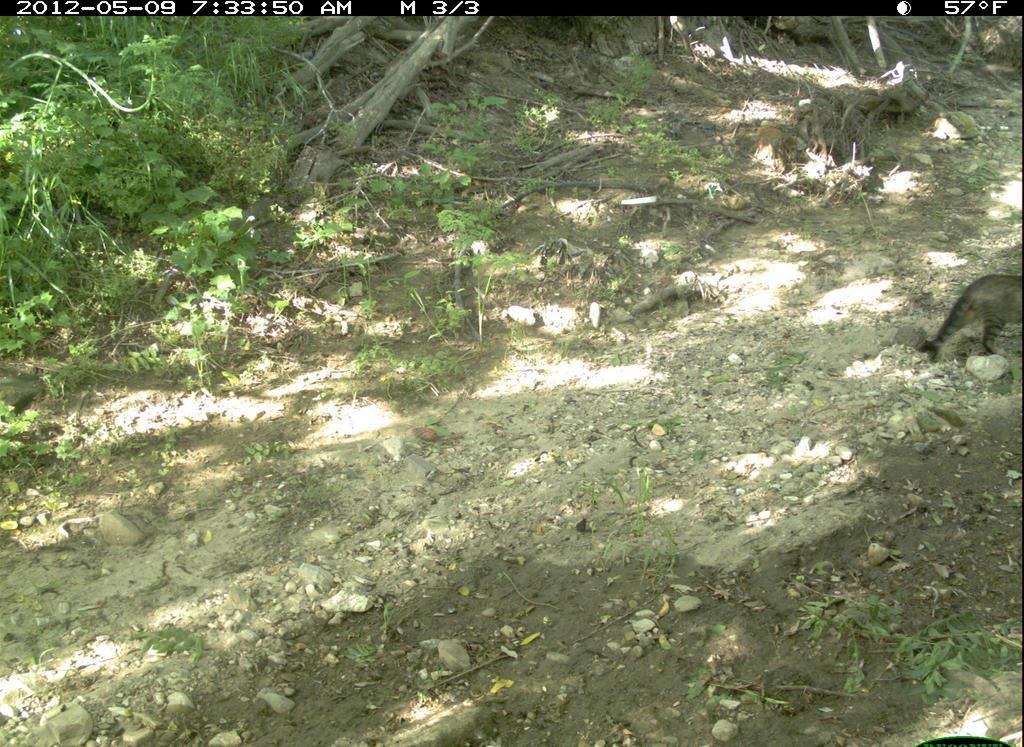cat: (911, 266, 1021, 385)
